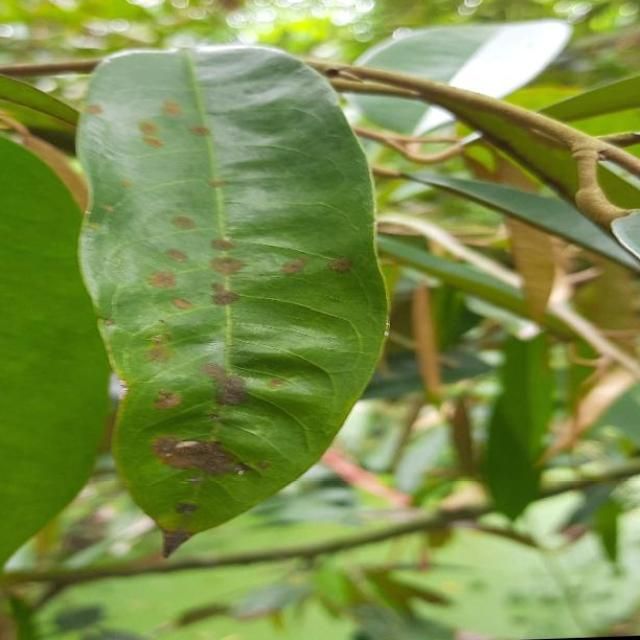Algal Leaf Spot: (61, 29, 406, 572)
